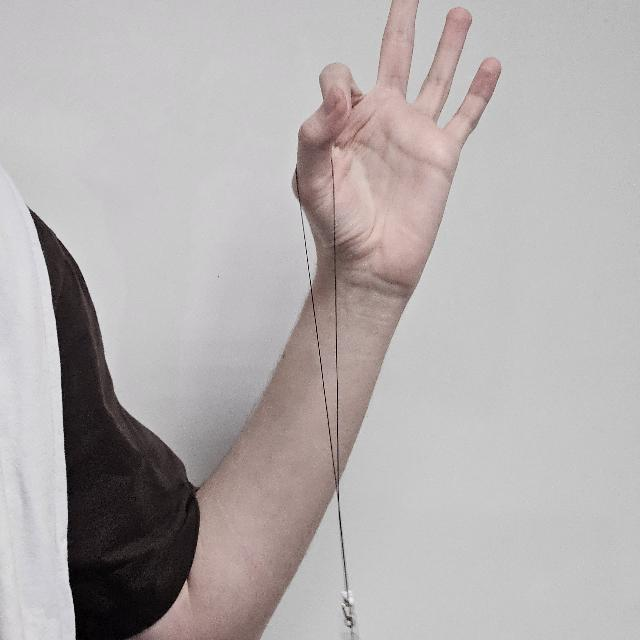Bolinha: (291, 2, 501, 308)
